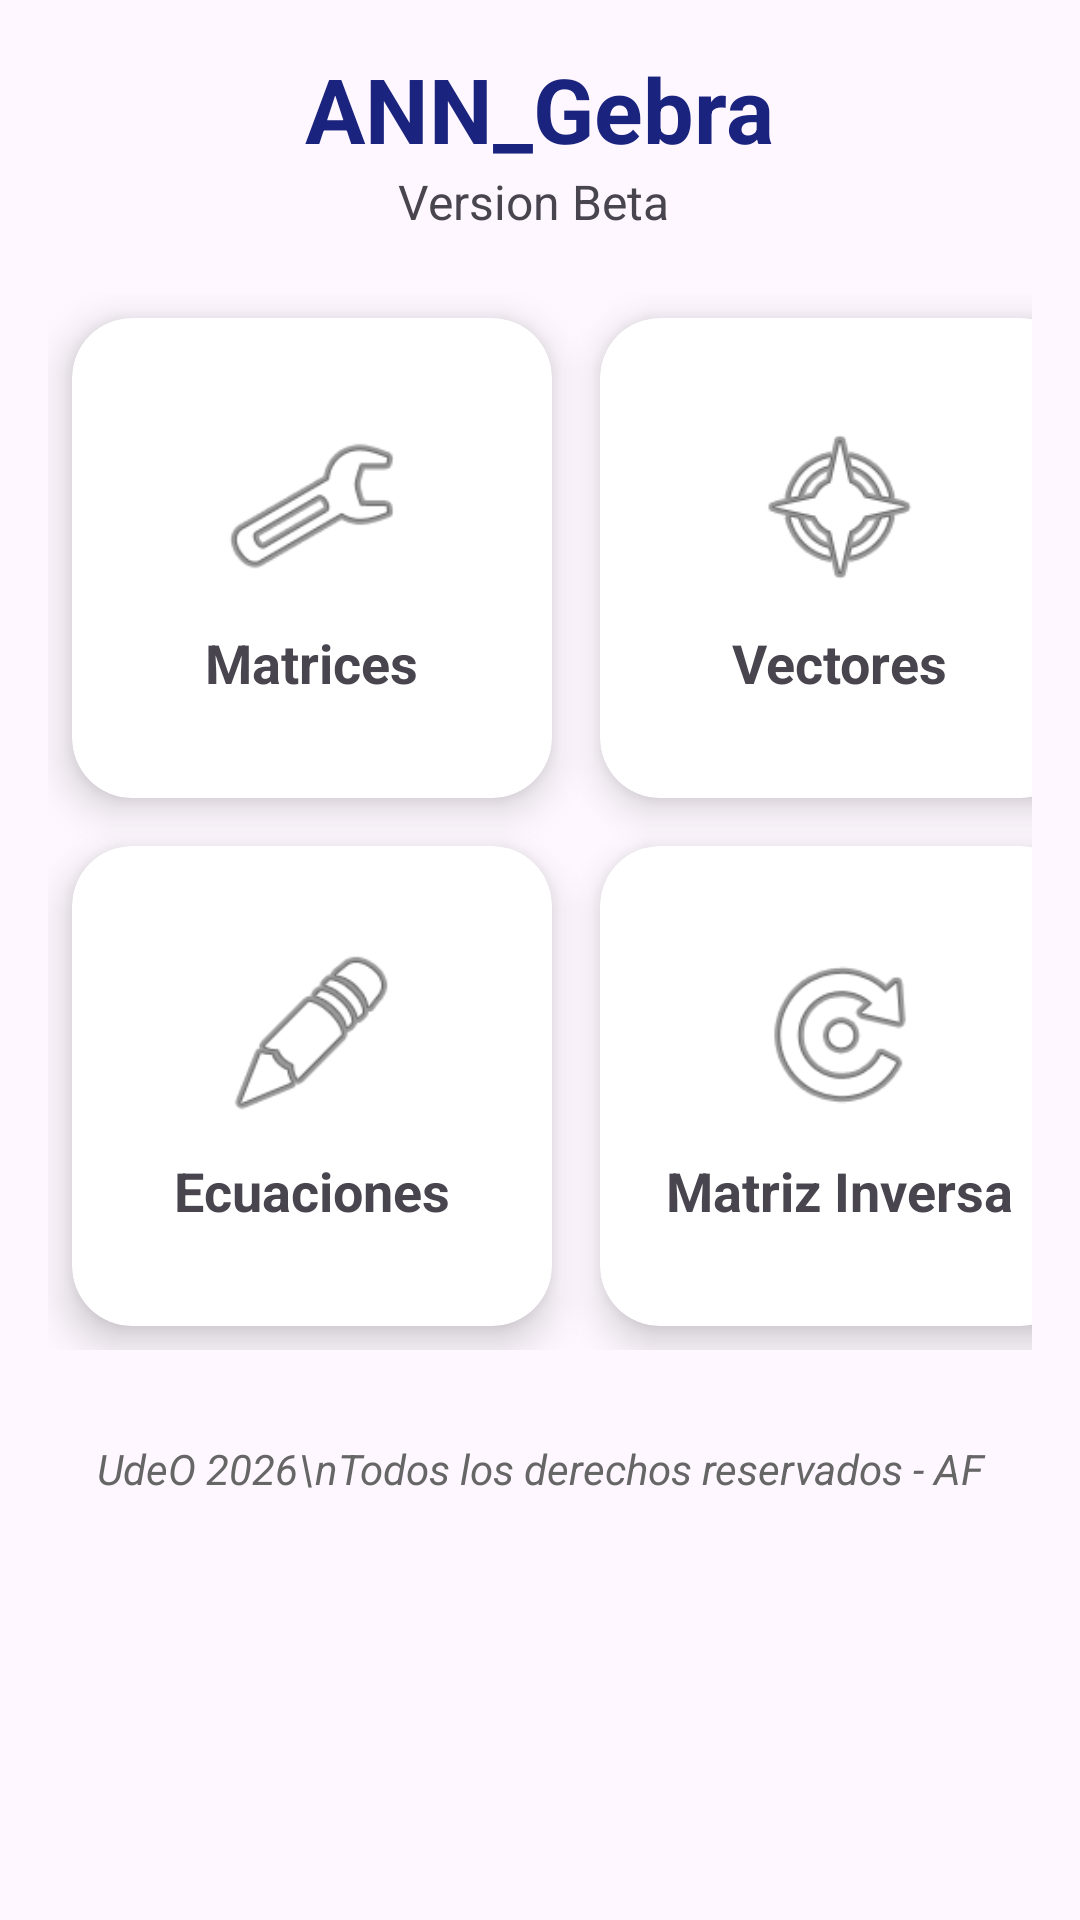

Where icons sit on this 1080x1920 app screen, as (x1, y1, x2, y2):
compass: (768, 436, 911, 578)
edit: (235, 957, 388, 1109)
manage: (231, 444, 393, 568)
rotate: (774, 967, 906, 1102)
